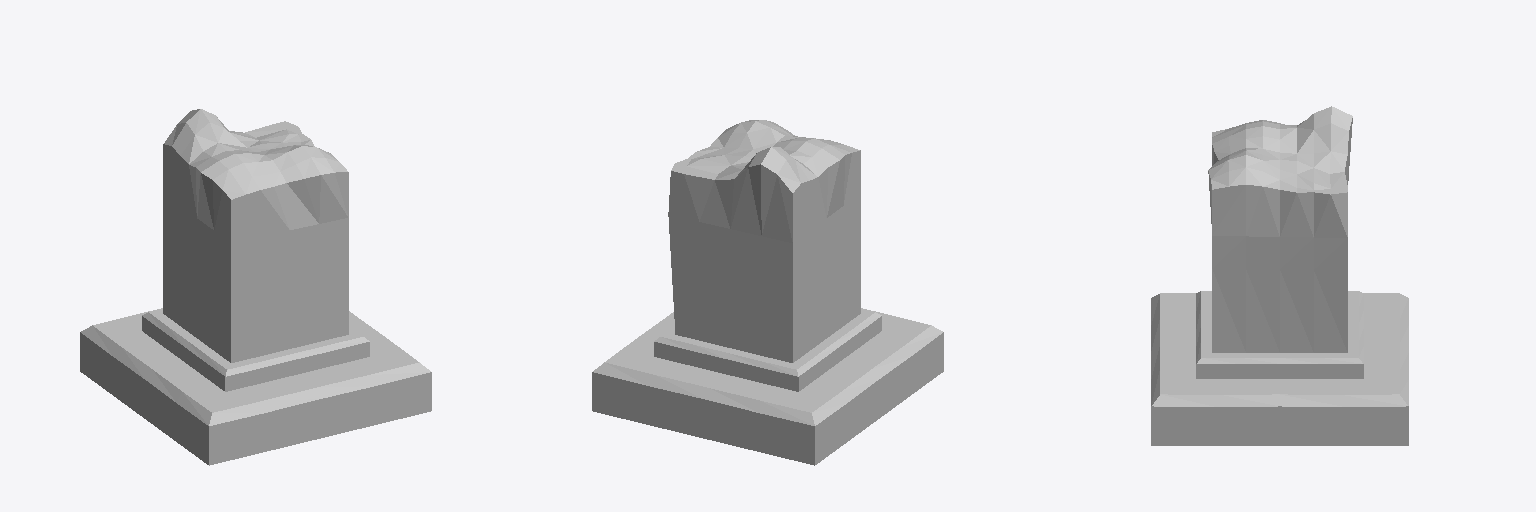
Rendered from Pillar_Broken_Blockour.obj.
The picture shows the model from 3 angles: view 1: azimuth 30°, elevation 25°; view 2: azimuth 150°, elevation 25°; view 3: azimuth 270°, elevation 25°; orthographic projection.
Parts seen in each view (by area): view 1: Pillar_Broken_Low; view 2: Pillar_Broken_Low; view 3: Pillar_Broken_Low.
Part boxes in pixels (x1,y1,x2,y2): Pillar_Broken_Low: (80, 109, 431, 465); Pillar_Broken_Low: (592, 120, 943, 465); Pillar_Broken_Low: (1151, 106, 1408, 445).
Size of the model in its own units: 140 by 163 by 140.